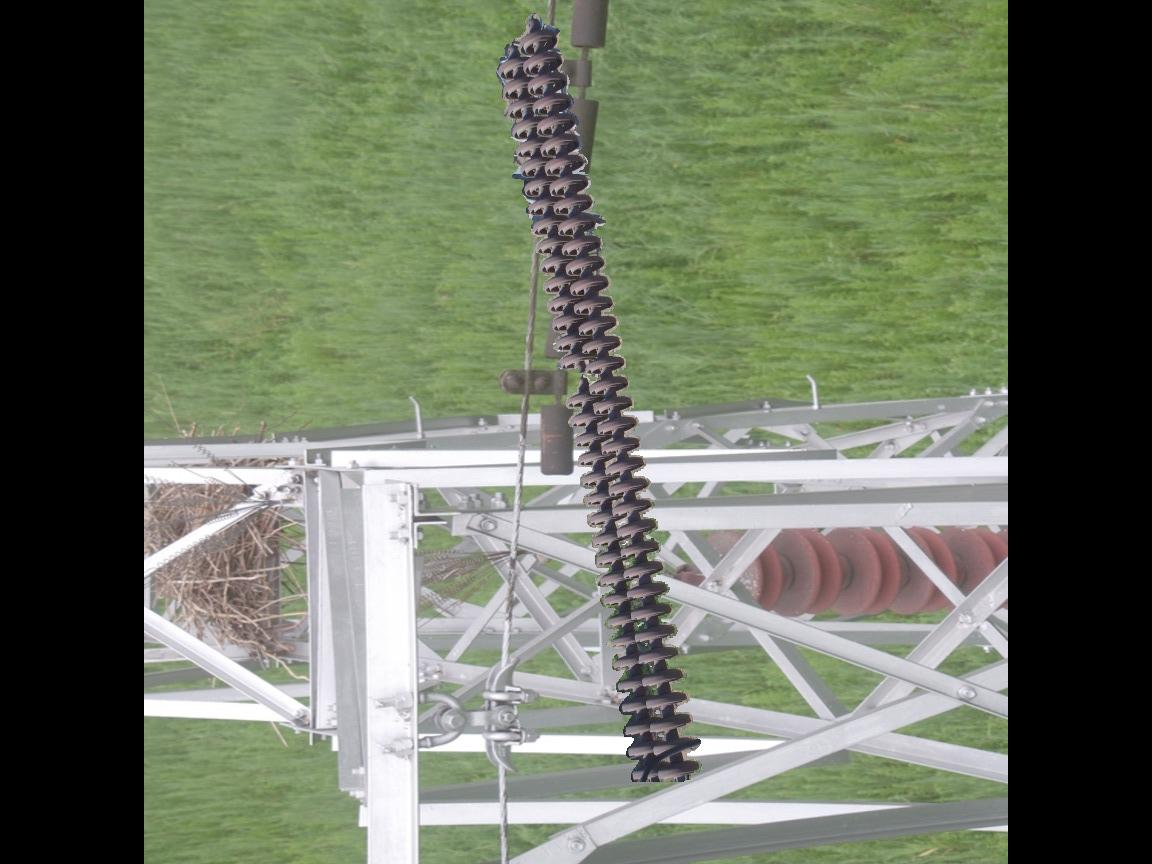insulator: (492, 22, 705, 791), (708, 516, 1012, 629)
insulator_stringdrop: (555, 350, 599, 412)
